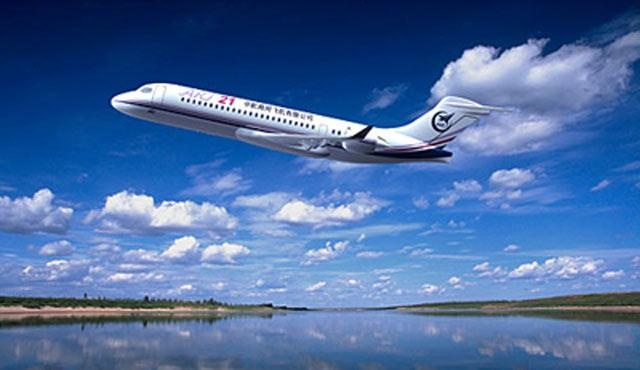airplane: (109, 78, 515, 165)
